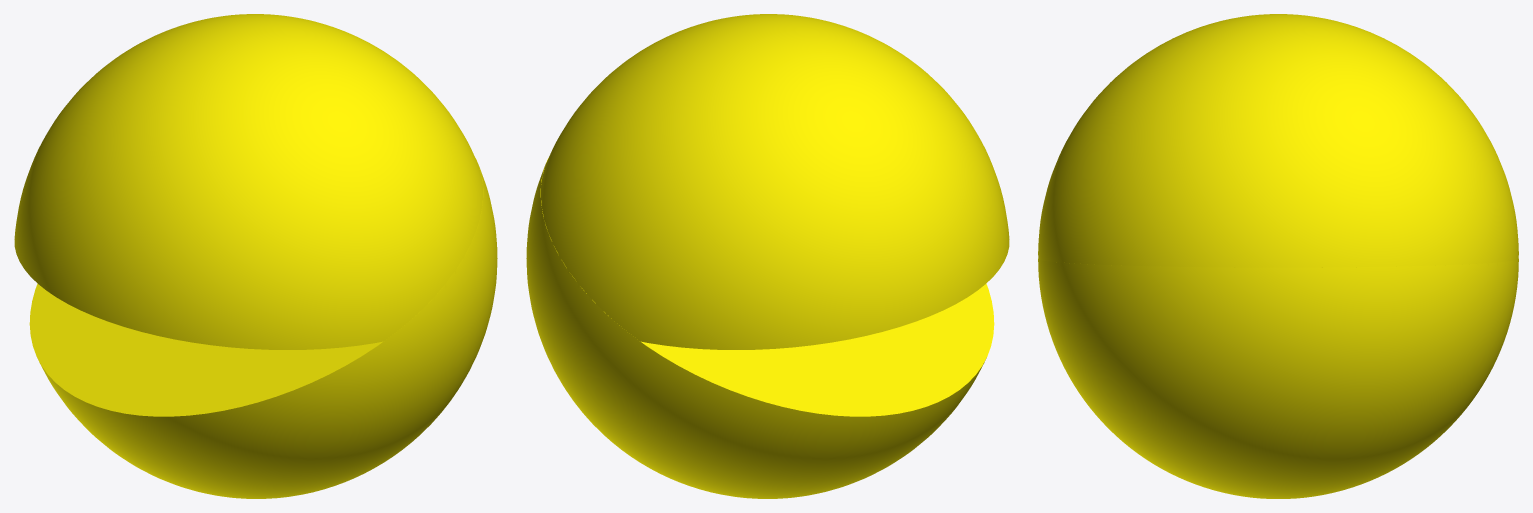
The model's file is PAC_MAN.fbx.
3 renders of one model, left to right at view 1: azimuth 30°, elevation 25°; view 2: azimuth 150°, elevation 25°; view 3: azimuth 270°, elevation 25°, orthographic.
Visible parts, largest first — view 1: node_id6, node_id9; view 2: node_id6, node_id9; view 3: node_id6, node_id9.
Boxes of the visible parts, bbox=[...] form: node_id6: bbox=[14, 14, 482, 349]; node_id9: bbox=[29, 158, 497, 498]; node_id6: bbox=[541, 14, 1009, 349]; node_id9: bbox=[526, 158, 994, 498]; node_id6: bbox=[1038, 14, 1518, 267]; node_id9: bbox=[1038, 259, 1518, 498].
Size of the model in its own units: 0.4295 by 0.4319 by 0.4284.
Materials: 2 (2 with a texture image).
